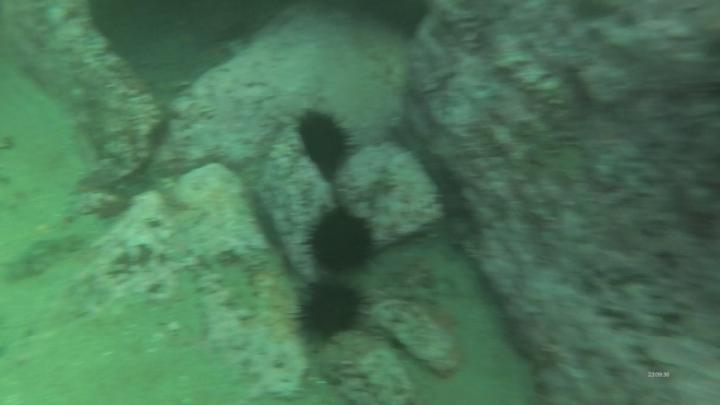echinus: (300, 195, 385, 279), (286, 104, 364, 181), (289, 280, 370, 343)
